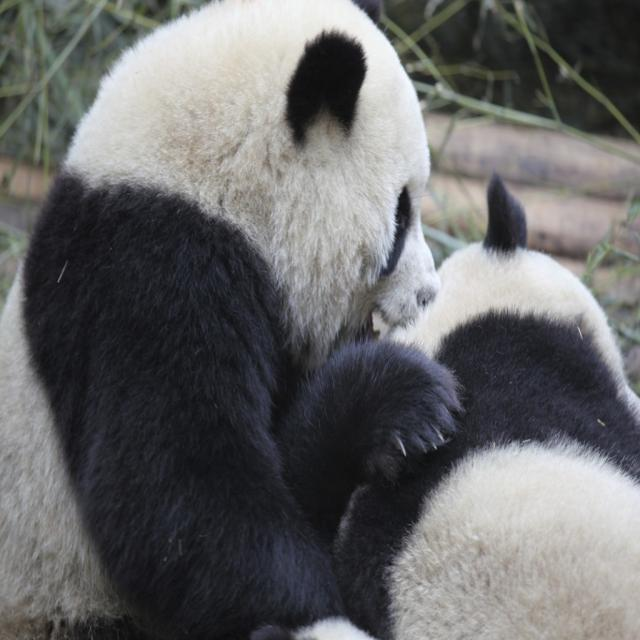panda: (0, 0, 462, 639), (335, 172, 640, 639)
